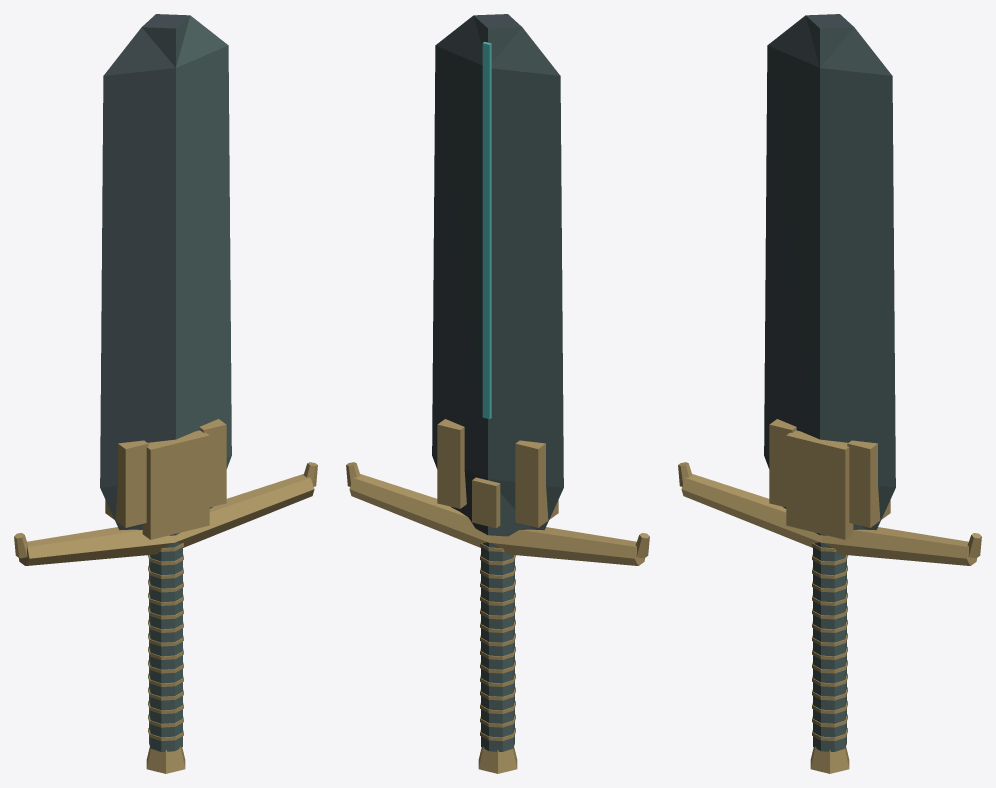
File: Equip_ColossalObsidian.fbx
3 renders of one model, left to right at view 1: azimuth 30°, elevation 25°; view 2: azimuth 150°, elevation 25°; view 3: azimuth 330°, elevation 25°, orthographic.
Parts seen in each view (by area): view 1: Equip_ColossalObsidian; view 2: Equip_ColossalObsidian; view 3: Equip_ColossalObsidian.
Boxes of the visible parts, x1=… form: Equip_ColossalObsidian: x1=14, y1=14, x2=317, y2=773; Equip_ColossalObsidian: x1=346, y1=14, x2=649, y2=773; Equip_ColossalObsidian: x1=678, y1=14, x2=981, y2=773.
Size of the model in its own units: 1.12 by 2.64 by 0.1795.
